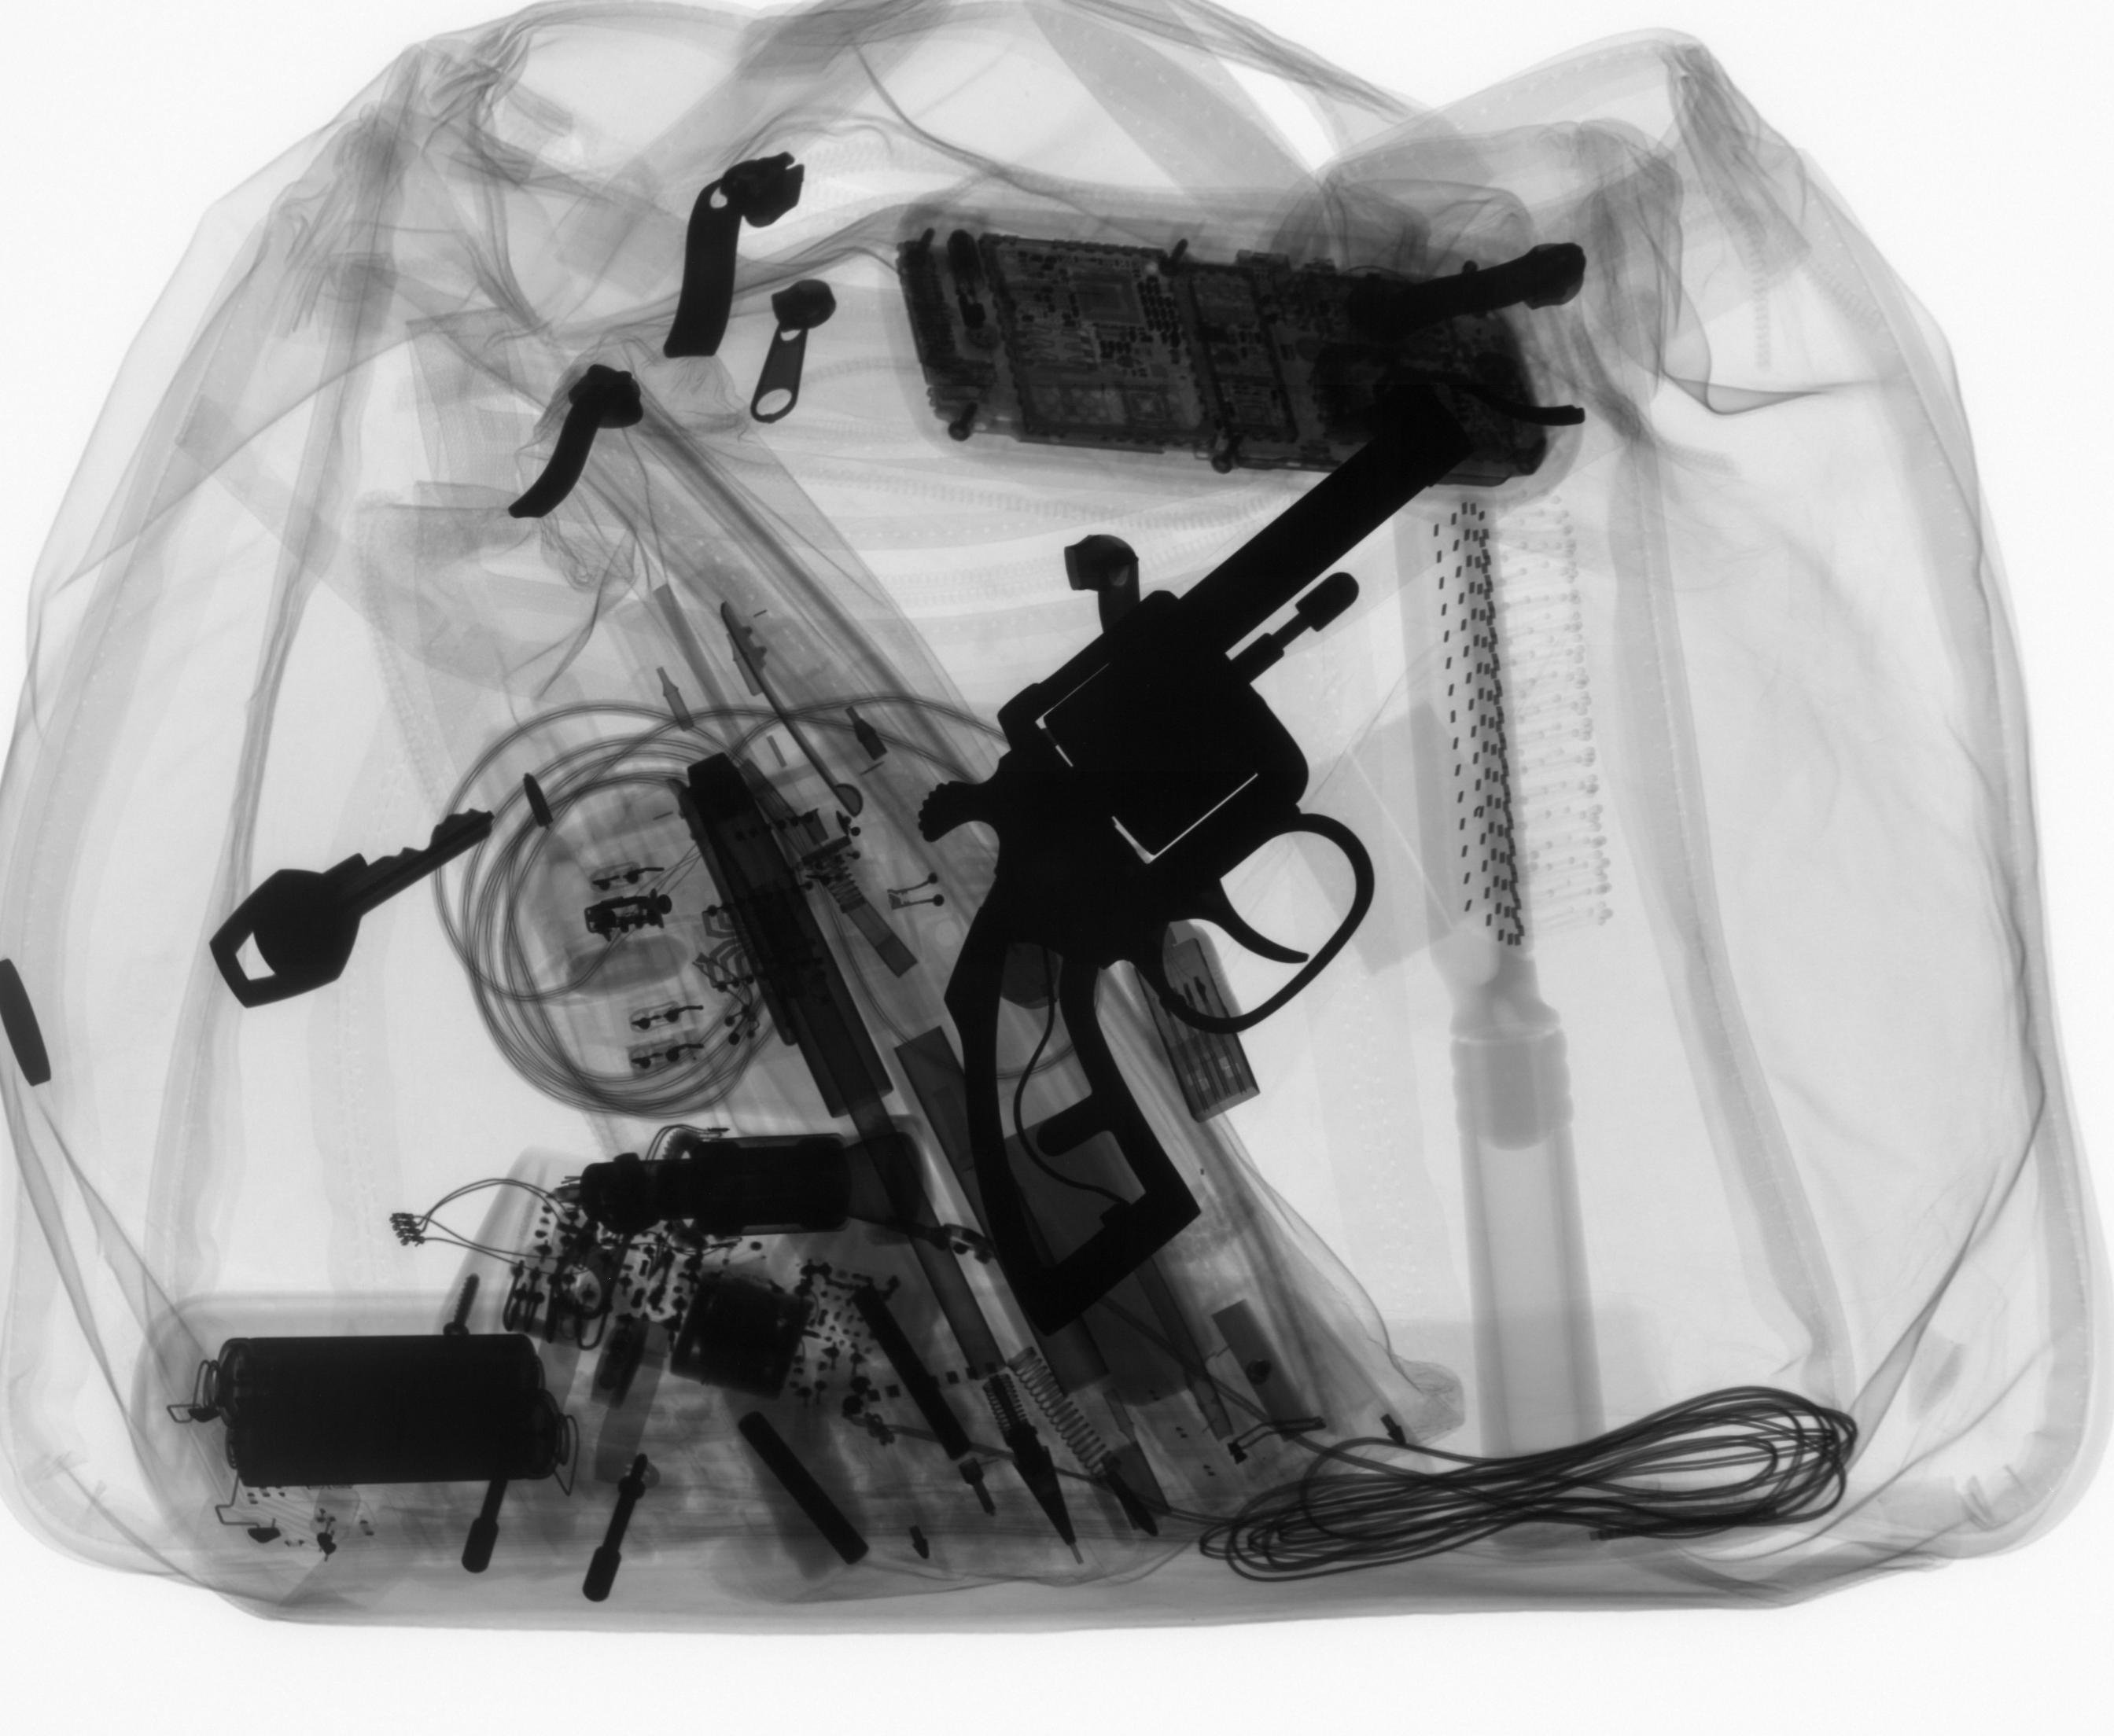Handgun: (904, 384, 1490, 1347)
